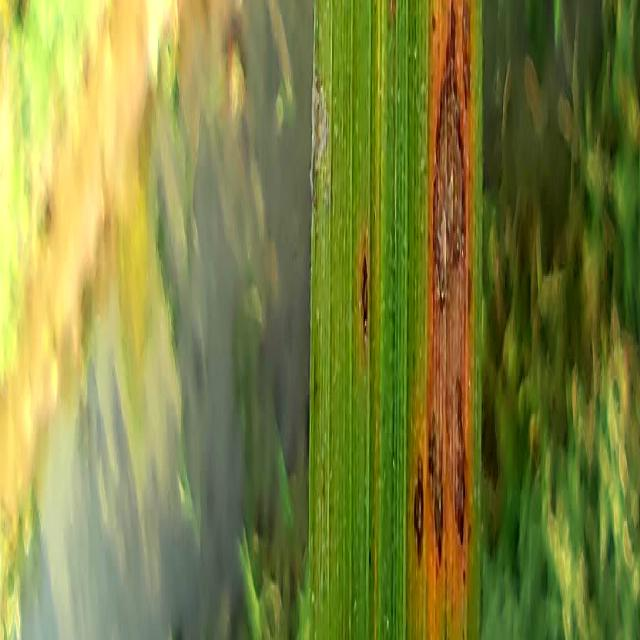LEAF BLAST: (412, 0, 473, 622), (358, 222, 371, 370)
